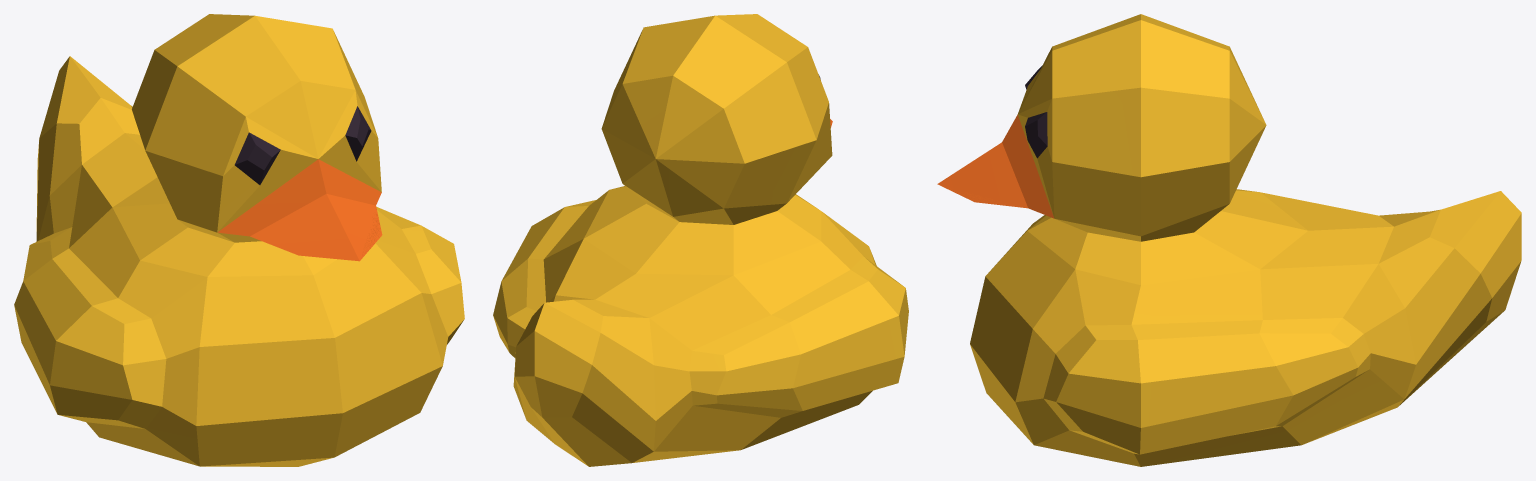
Rendered from RubberDuck.fbx.
3 views of the same model, side by side, from view 1: azimuth 30°, elevation 25°; view 2: azimuth 150°, elevation 25°; view 3: azimuth 270°, elevation 25° (orthographic). The views are drawn at different scales.
Parts seen in each view (by area): view 1: RubberDuck; view 2: RubberDuck; view 3: RubberDuck.
Part boxes in pixels (x1,y1,x2,y2): RubberDuck: (14, 14, 464, 466); RubberDuck: (493, 14, 908, 466); RubberDuck: (937, 14, 1521, 466).
Size of the model in its own units: 34.23 by 33.44 by 43.45.
